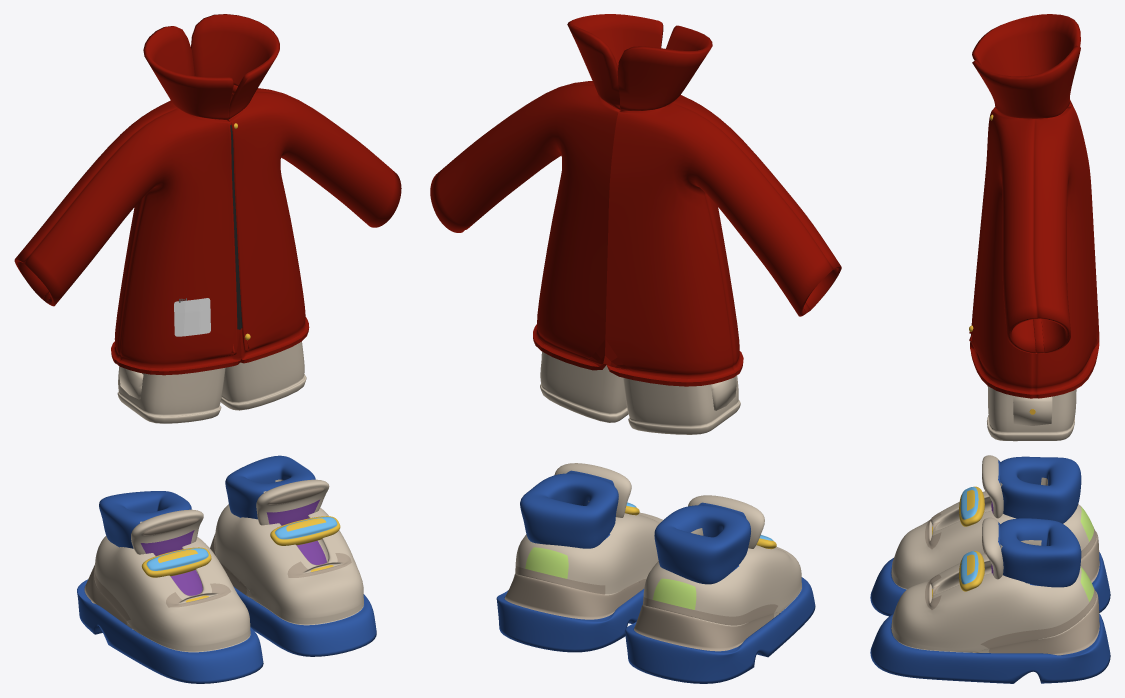
The model's file is look2.glb.
The picture shows the model from 3 angles, left to right: view 1: azimuth 30°, elevation 25°; view 2: azimuth 150°, elevation 25°; view 3: azimuth 270°, elevation 25°; orthographic projection. The views are drawn at different scales.
Parts seen in each view (by area): view 1: Coat, Shoes, Pants, Plane.001; view 2: Coat, Shoes, Pants, pockets; view 3: Shoes, Coat, Pants, pockets.
Part boxes in pixels (bbox=[...]): Coat: bbox=[14, 14, 401, 375]; Shoes: bbox=[77, 455, 376, 683]; Pants: bbox=[117, 341, 306, 423]; Plane.001: bbox=[174, 298, 210, 336]; Coat: bbox=[430, 14, 841, 386]; Shoes: bbox=[496, 463, 815, 683]; Pants: bbox=[540, 352, 740, 434]; pockets: bbox=[541, 352, 736, 410]; Shoes: bbox=[870, 455, 1110, 683]; Coat: bbox=[969, 14, 1099, 398]; Pants: bbox=[987, 386, 1076, 441]; pockets: bbox=[1013, 396, 1052, 425].
Bounding box in the file's own units: 1.2 × 1.78 × 0.6539.
